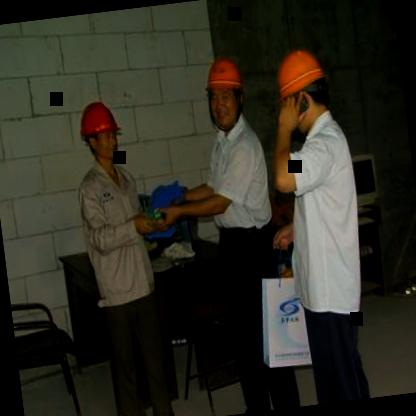helmet: (266, 40, 336, 136), (198, 46, 251, 132), (74, 94, 127, 171)
